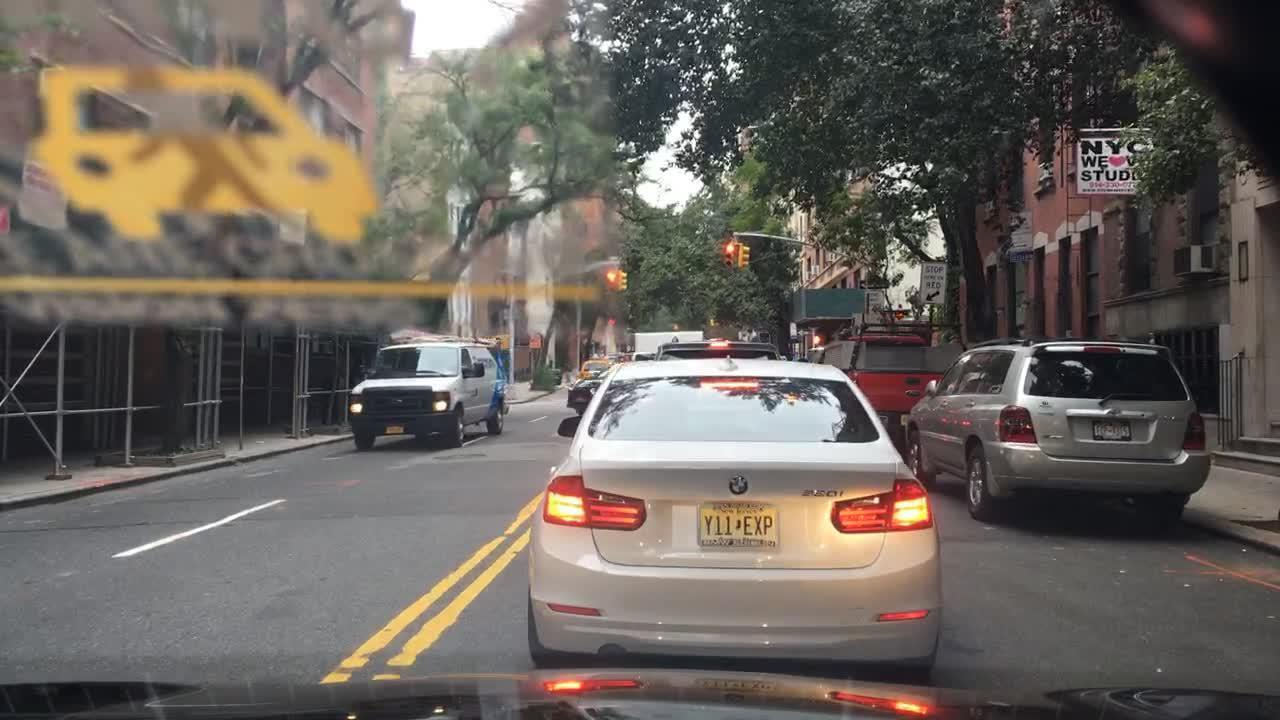bmw: (724, 473, 751, 496)
